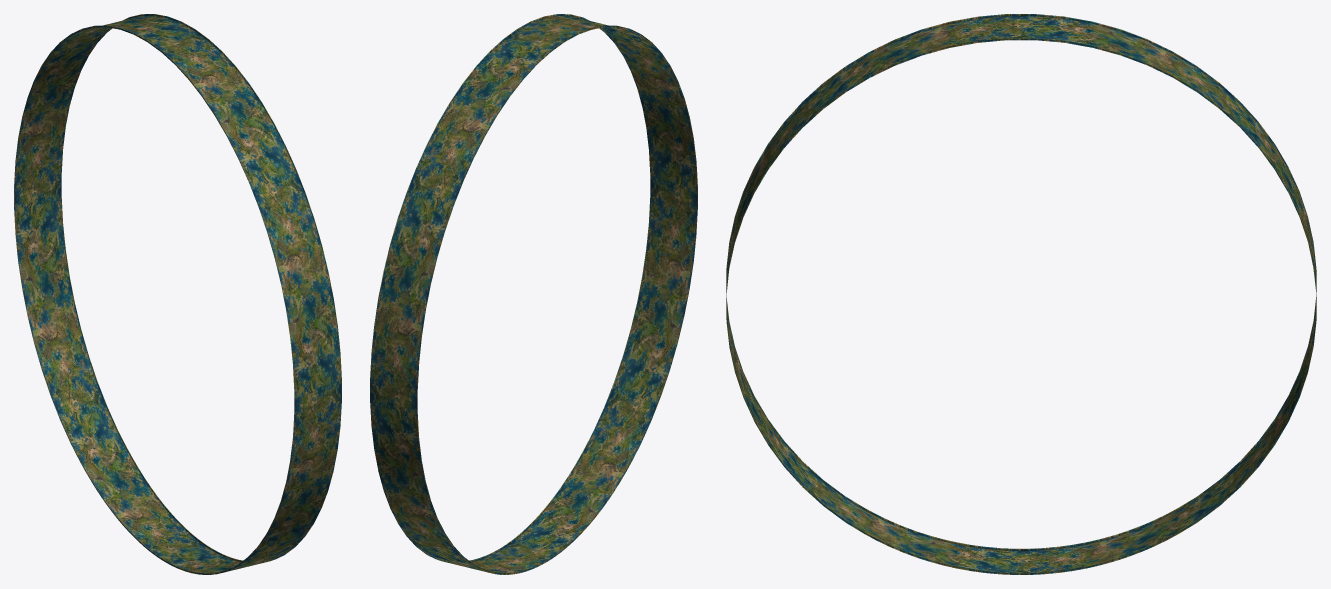
Rendered from RINGWORLDskyelement.glb.
3 renders of one model, left to right at view 1: azimuth 30°, elevation 25°; view 2: azimuth 150°, elevation 25°; view 3: azimuth 270°, elevation 25°, orthographic. The views are drawn at different scales.
Visible parts, largest first — view 1: terrain, walls; view 2: terrain, walls; view 3: terrain, walls.
Part boxes in pixels (box(x1,y1,x2,y2)): terrain: box(14, 16, 341, 573); walls: box(14, 14, 341, 574); terrain: box(370, 16, 697, 572); walls: box(370, 14, 697, 574); terrain: box(726, 16, 1316, 572); walls: box(726, 14, 1316, 574).
Size of the model in its own units: 983 by 10036 by 10002.
1 material, 1 textured.
